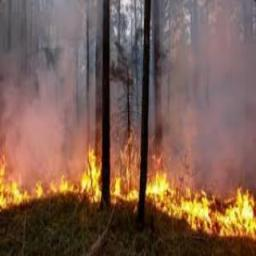Low smoke: (155, 0, 254, 138), (2, 7, 99, 137)
Small fire: (149, 152, 256, 240), (2, 141, 106, 215), (114, 138, 152, 210)
